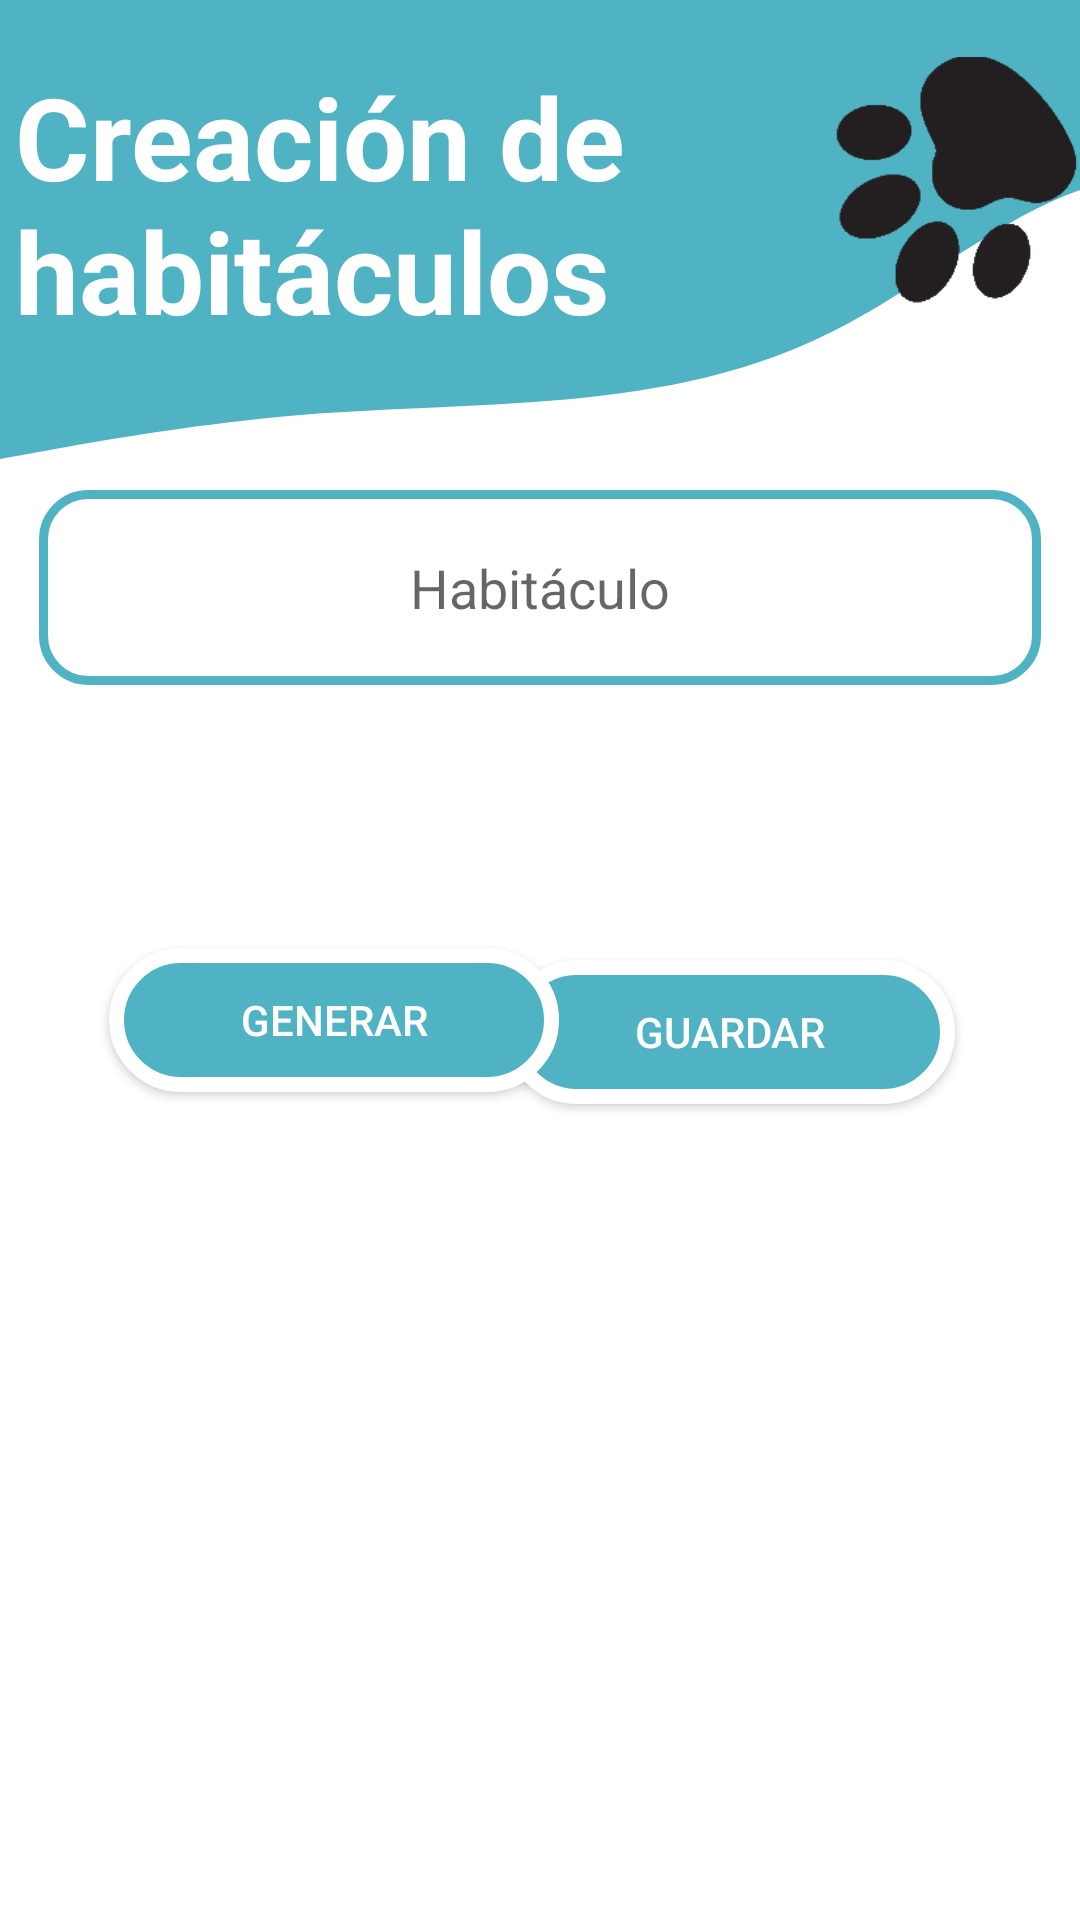

Named icons in this screenshot (1080px×1920px) and their bounding boxes, (x1, y1, x2, y2):
pata: (795, 57, 1080, 372)
